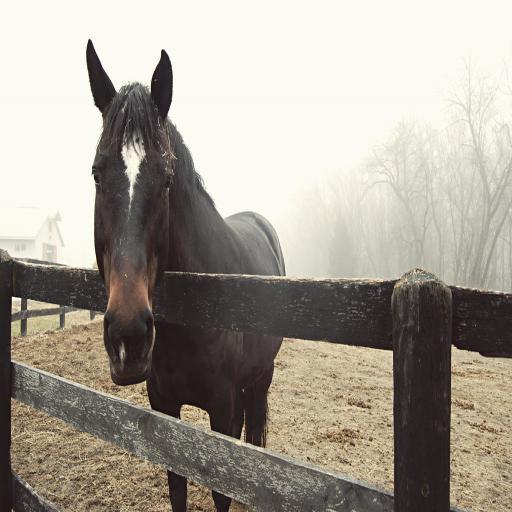Horse: (84, 41, 284, 512)
